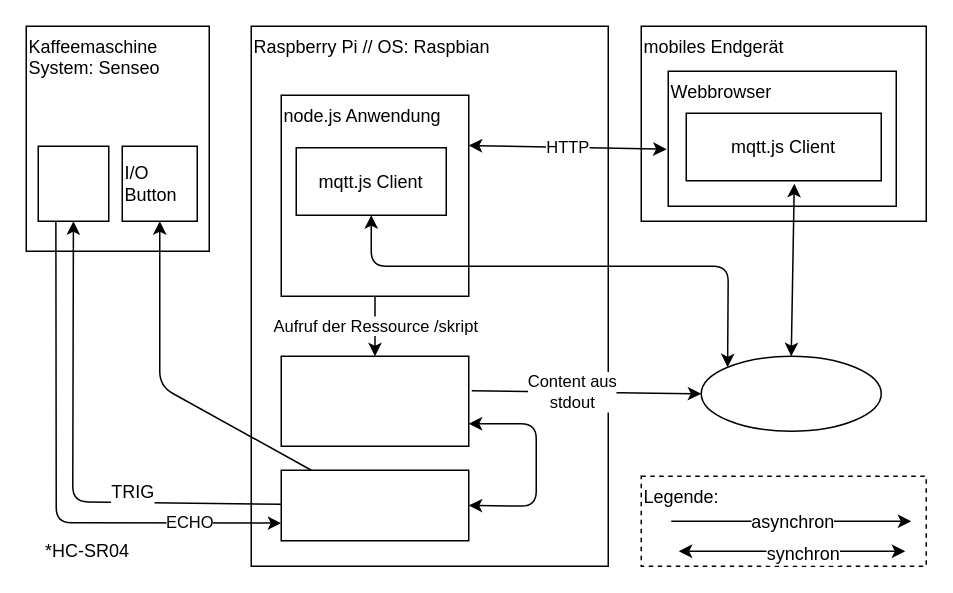
Some shapes in this 953 by 593 pixel diagram are drawn without their labels. Each missing label, with the centre of its shape:
"GPIO Pins" goes at (x=374, y=505).
"Python Skript aka Ressource /skript" goes at (x=374, y=400).
"Topic: coffeefy/messages" goes at (x=790, y=393).
"Ultra schall Sensor*" goes at (x=73, y=183).
